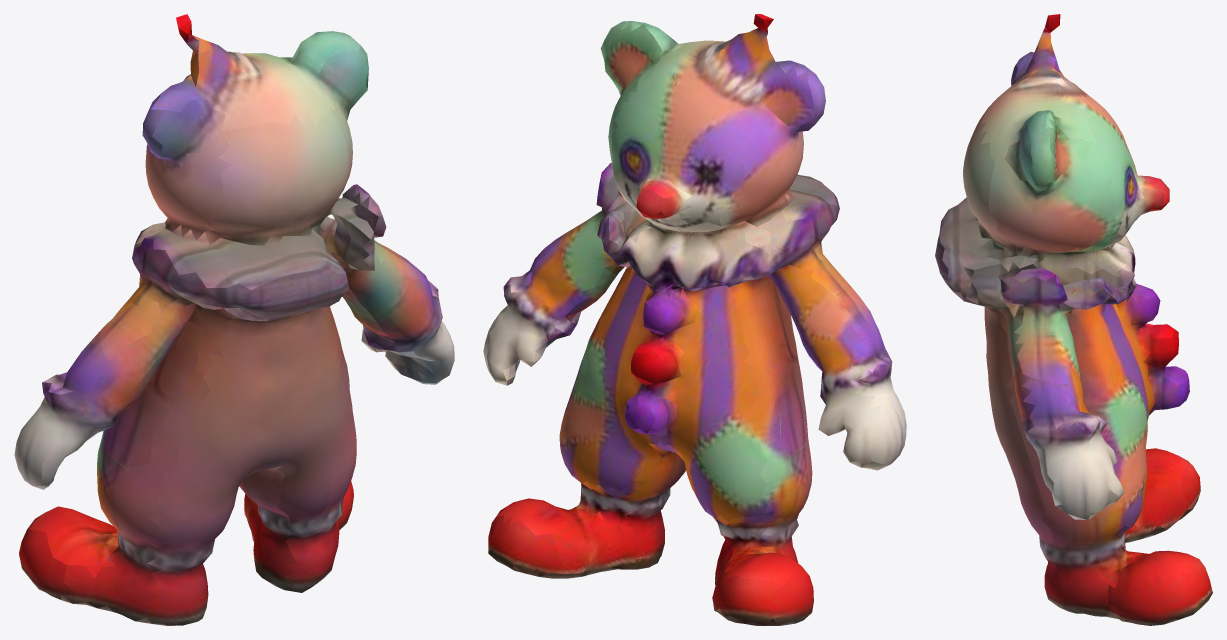
File: host-clownbear-toon-raw.glb
The picture shows the model from 3 angles, left to right: view 1: azimuth 30°, elevation 25°; view 2: azimuth 150°, elevation 25°; view 3: azimuth 270°, elevation 25°; orthographic projection. The views are drawn at different scales.
Visible parts, largest first — view 1: world; view 2: world; view 3: world.
Part boxes in pixels (left/top/right/bottom): world: left=14, top=14, right=454, bottom=625; world: left=483, top=14, right=906, bottom=625; world: left=935, top=14, right=1212, bottom=625.
Bounding box in the file's own units: 0.6967 × 0.9369 × 0.4374.
Materials: 1 (1 with a texture image).
